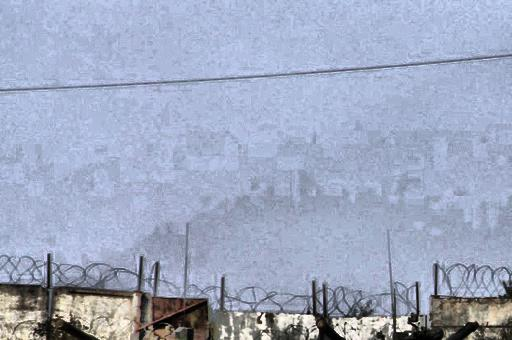tanks: (393, 325, 443, 340), (59, 322, 99, 340), (319, 321, 344, 340), (448, 325, 477, 340), (165, 329, 194, 340), (155, 333, 161, 340)
